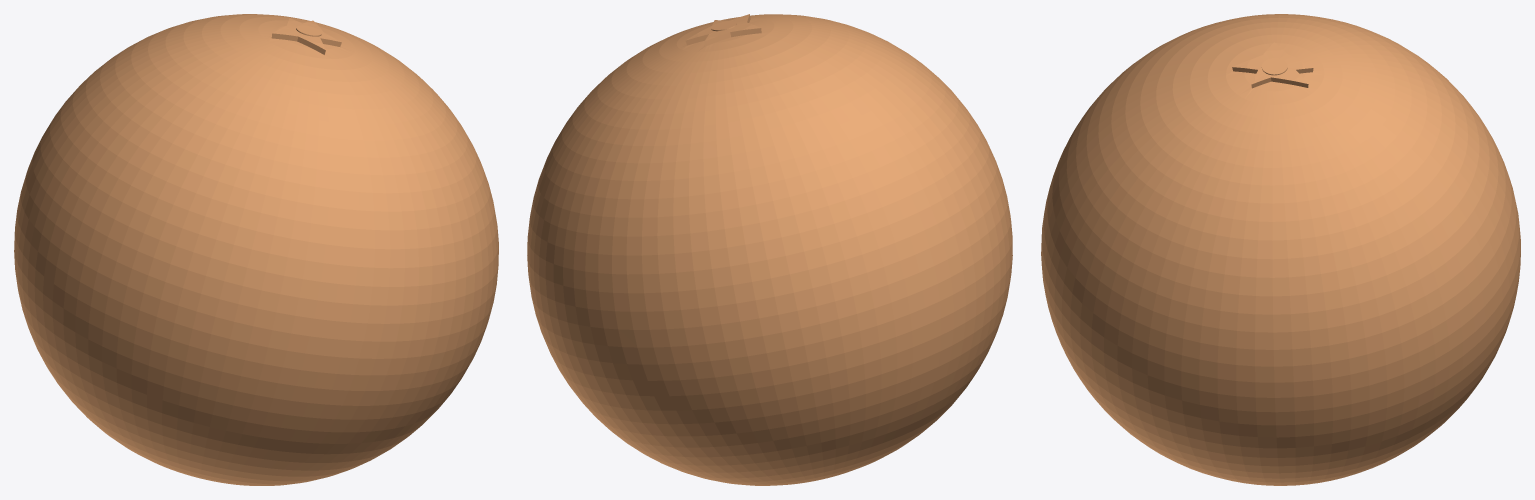
Rendered from Orange.fbx.
3 renders of one model, left to right at view 1: azimuth 30°, elevation 25°; view 2: azimuth 150°, elevation 25°; view 3: azimuth 270°, elevation 25°, orthographic.
Visible parts, largest first — view 1: Orange; view 2: Orange; view 3: Orange.
Boxes of the visible parts, box(x1,y1,x2,y2) form: Orange: box(14, 14, 498, 485); Orange: box(527, 14, 1012, 485); Orange: box(1041, 14, 1520, 485).
Size of the model in its own units: 8768 by 8555 by 8780.
